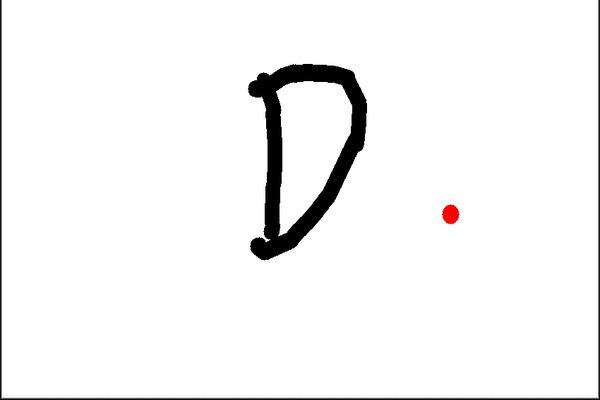D: (237, 59, 374, 265)
